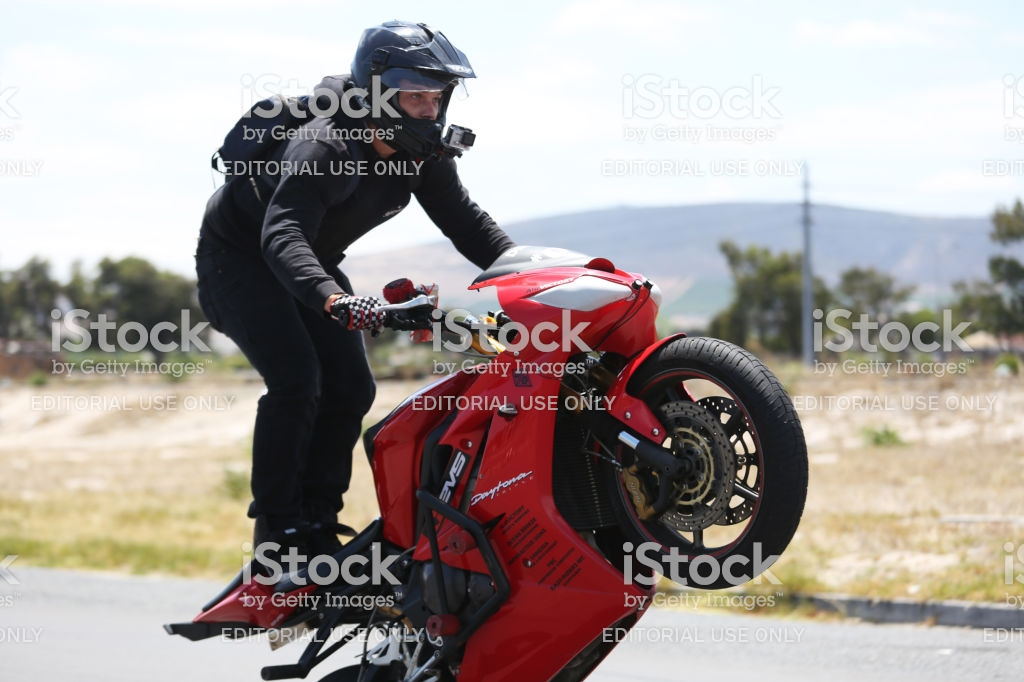helmet: (359, 20, 476, 155)
